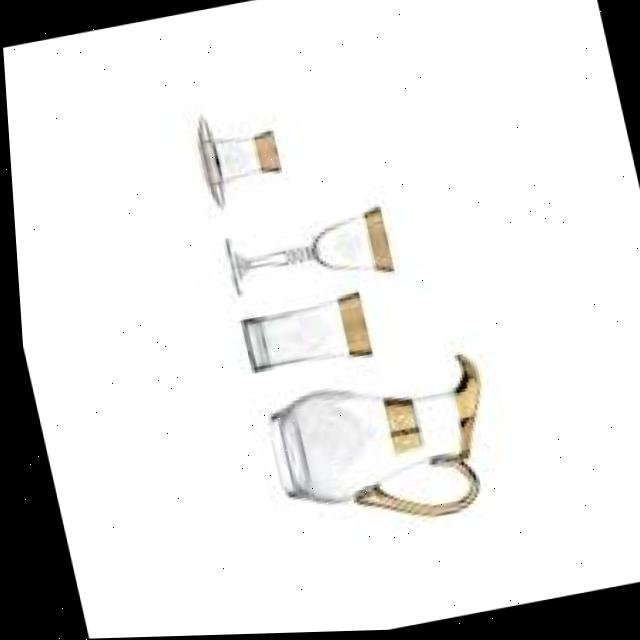Dry: (252, 352, 503, 547), (214, 201, 396, 305), (229, 290, 374, 382), (187, 101, 291, 211)
